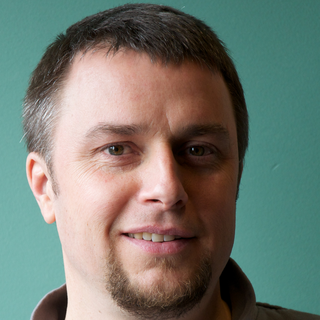eye: (90, 139, 143, 161), (178, 138, 223, 162)
